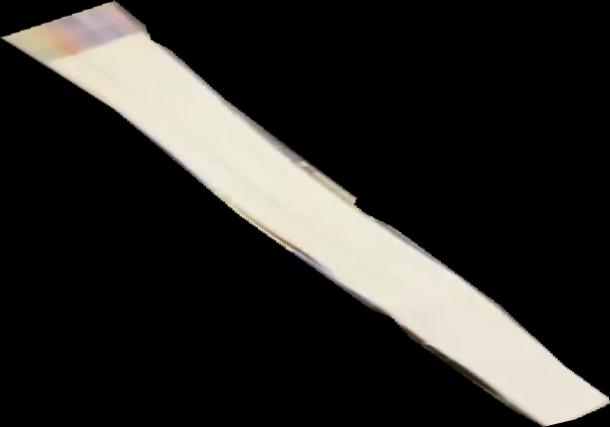backward: (1, 1, 610, 427)
